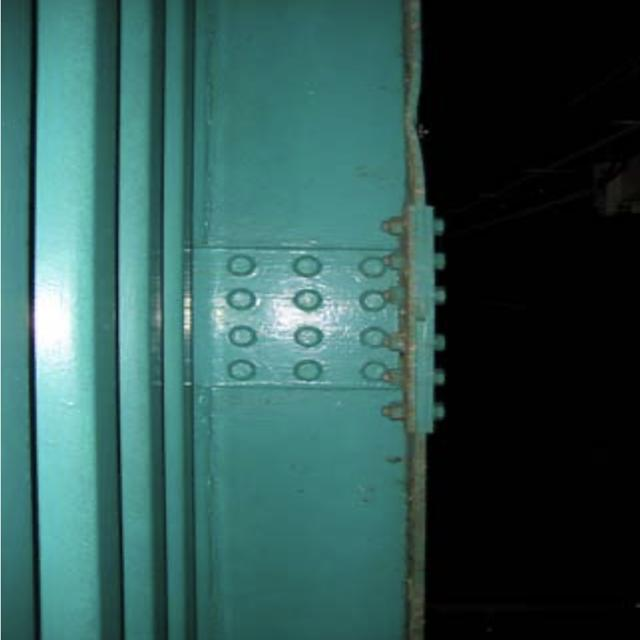corrosion: (376, 173, 454, 467)
